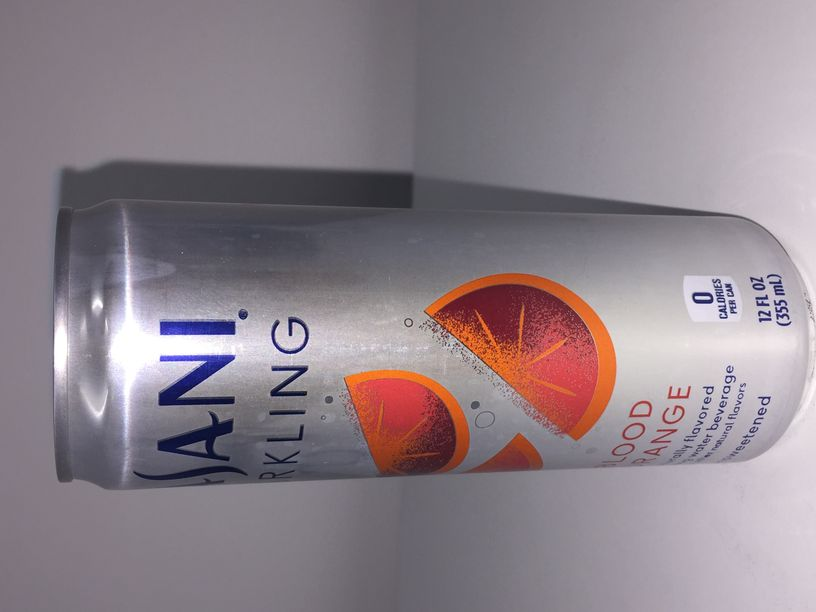blood_orange: (51, 198, 816, 495)
